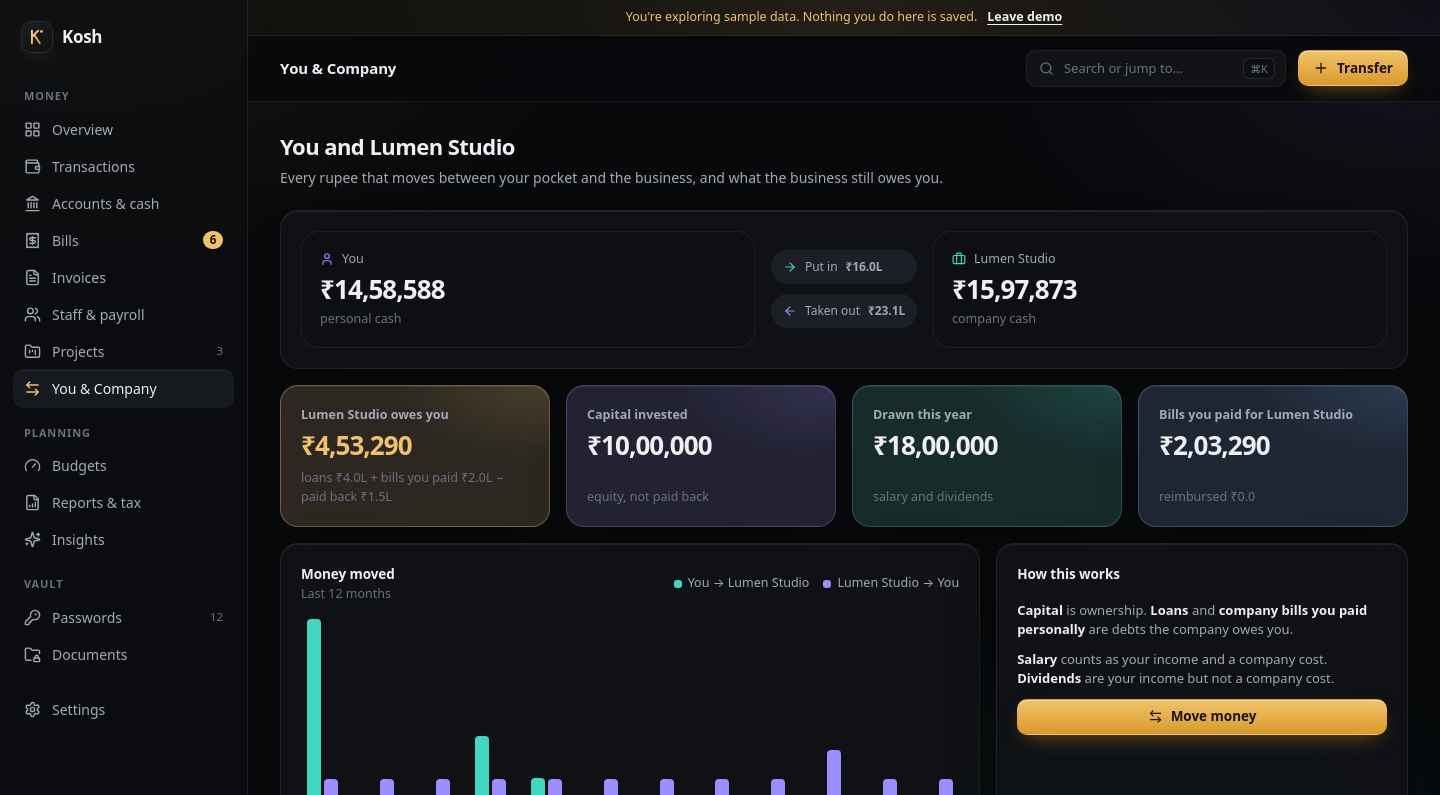
Test case: app smoke test › renders Reports & tax
Click the button with class "nav-item" showing "Reports & tax": (124, 502) [14, 484, 233, 521]
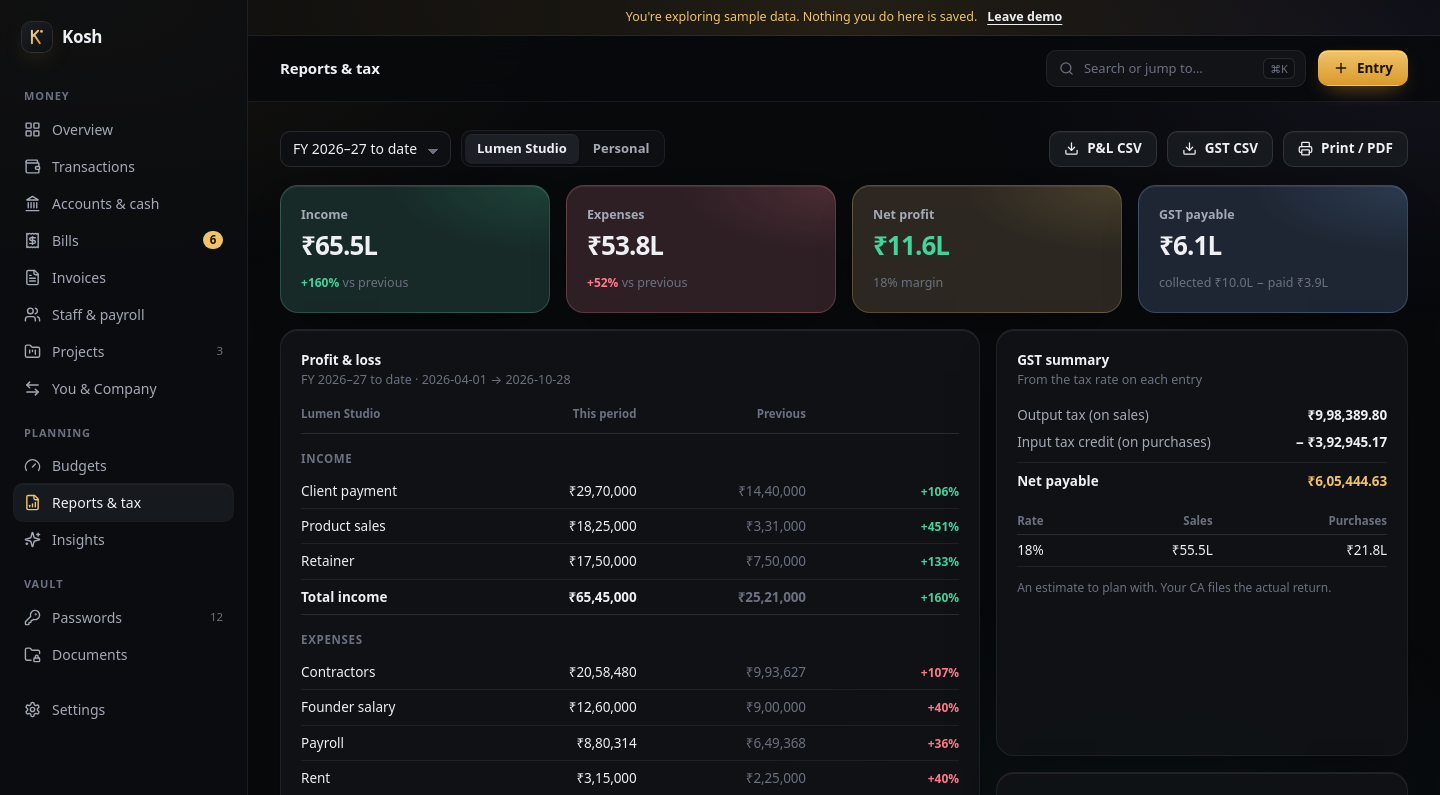
Check: the heading "R e p o r t s & t a x" is shown, box [280, 57, 380, 80]
Check: the text "Profit & loss" is shown, box [301, 351, 381, 369]
